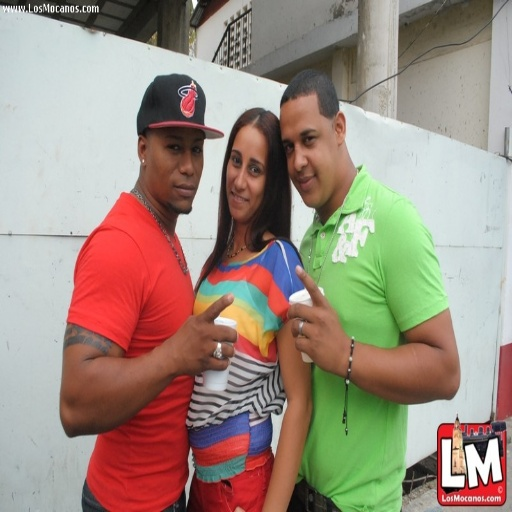hand: (282, 260, 345, 373), (181, 299, 225, 370)
